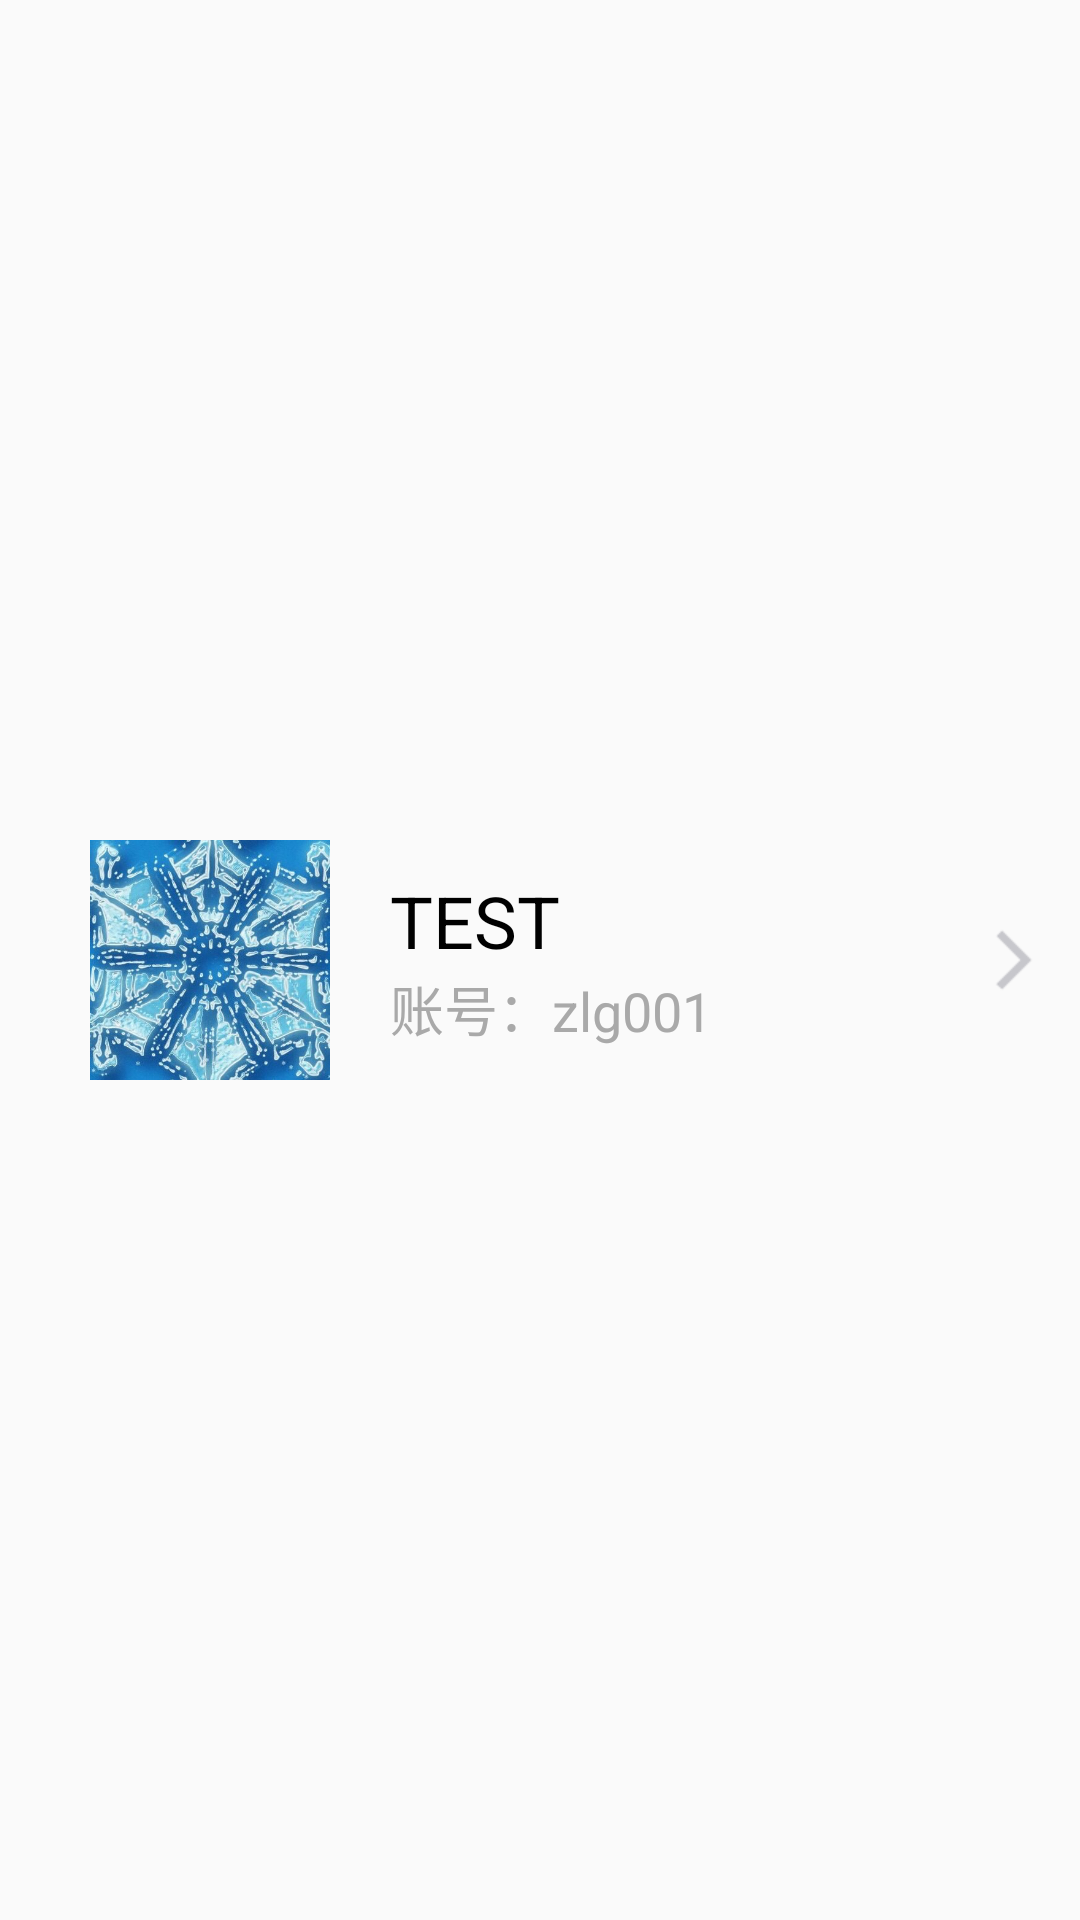

Point at icon controls on the screen. Image size 1080×1920, points as point (x, y).
right arrow: point (1014, 960)
